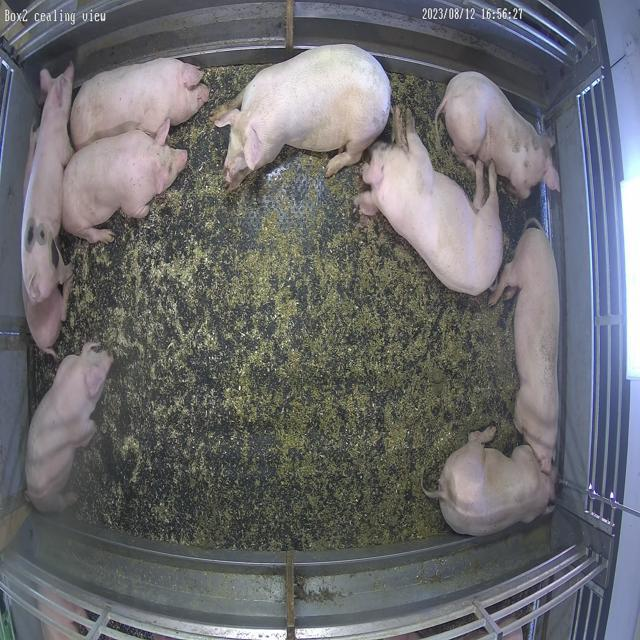Dirt: (57, 66, 521, 552), (391, 73, 474, 196)
Pig: (356, 107, 504, 296), (212, 44, 391, 190), (490, 221, 560, 474), (437, 71, 561, 198), (21, 64, 74, 354), (26, 344, 112, 512), (62, 130, 186, 243), (426, 427, 554, 536), (70, 58, 208, 150)
